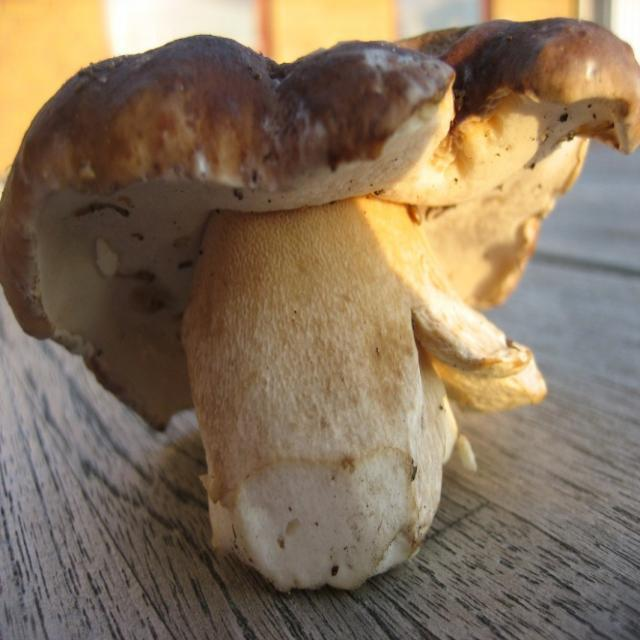Boletus: (1, 16, 640, 584)
